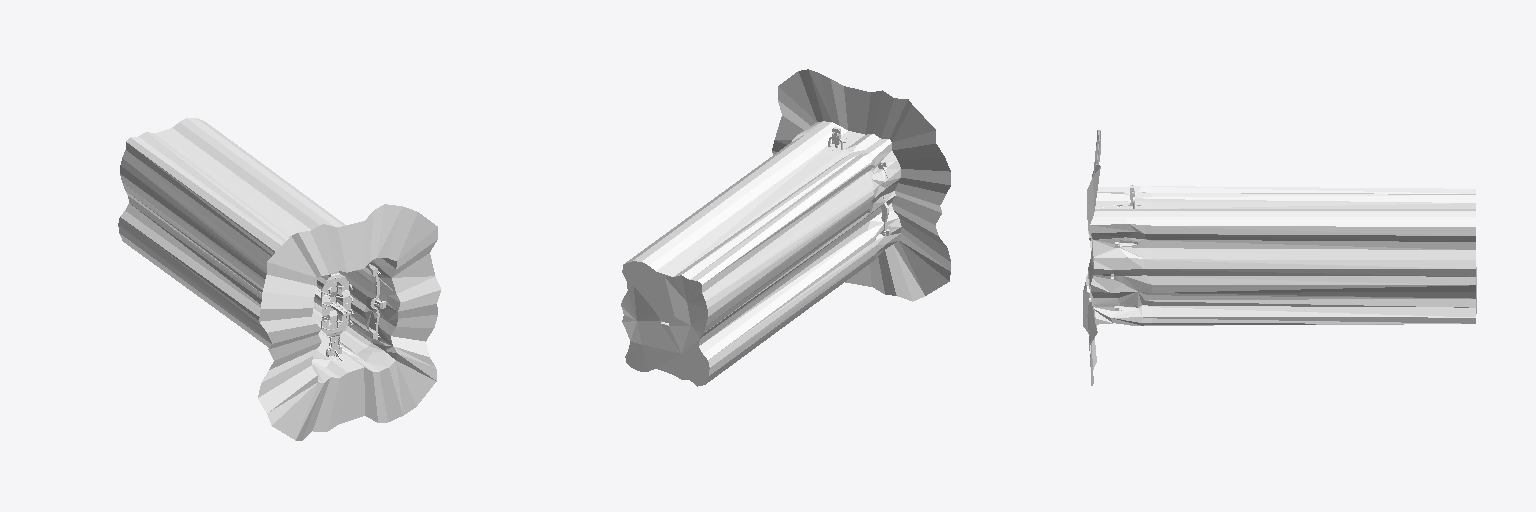
The model's file is gephyrophobia_Lightmap.obj.
3 views of the same model, side by side, from view 1: azimuth 30°, elevation 25°; view 2: azimuth 150°, elevation 25°; view 3: azimuth 270°, elevation 25° (orthographic).
Parts seen in each view (by area): view 1: gephyrophobia_Lightmap_1, gephyrophobia_Lightmap_2, gephyrophobia_Lightmap_11, gephyrophobia_Lightmap_0, gephyrophobia_Lightmap_10; view 2: gephyrophobia_Lightmap_2, gephyrophobia_Lightmap_11, gephyrophobia_Lightmap_1; view 3: gephyrophobia_Lightmap_1, gephyrophobia_Lightmap_11, gephyrophobia_Lightmap_2.
Boxes of the visible parts, x1,y1,x2,y2 form: gephyrophobia_Lightmap_1: [258, 204, 441, 440]; gephyrophobia_Lightmap_2: [118, 142, 329, 349]; gephyrophobia_Lightmap_11: [126, 118, 345, 251]; gephyrophobia_Lightmap_0: [311, 271, 395, 382]; gephyrophobia_Lightmap_10: [312, 302, 364, 353]; gephyrophobia_Lightmap_2: [699, 121, 901, 384]; gephyrophobia_Lightmap_11: [621, 143, 865, 386]; gephyrophobia_Lightmap_1: [772, 69, 950, 301]; gephyrophobia_Lightmap_1: [1083, 130, 1475, 385]; gephyrophobia_Lightmap_11: [1152, 186, 1476, 313]; gephyrophobia_Lightmap_2: [1086, 186, 1151, 285].
Bounding box in the file's own units: 22302 × 25336 × 41925.